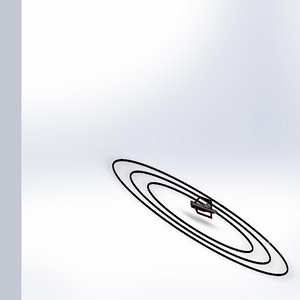circle: (101, 148, 300, 286)
submarine: (181, 193, 222, 223)
